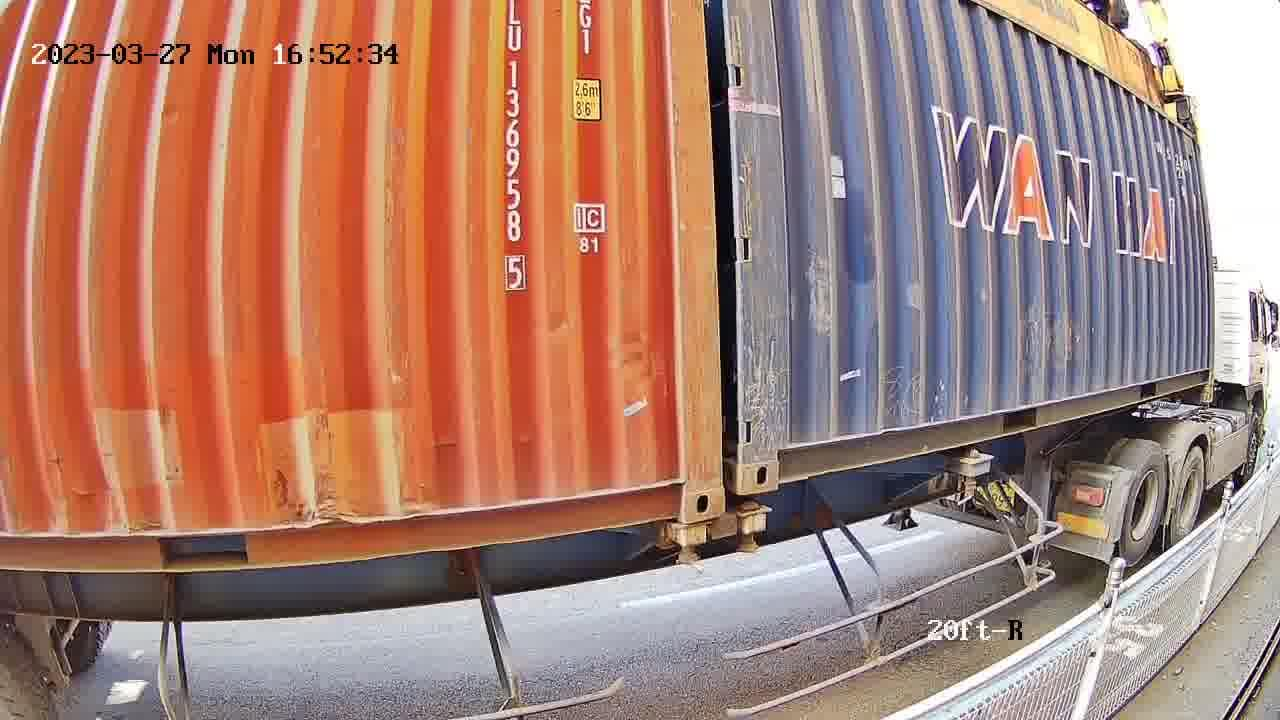Cone: (734, 502, 773, 558), (666, 523, 710, 571)
Hole_L: (740, 419, 807, 496)
Hole_R: (644, 444, 723, 523)
Tire: (1118, 445, 1168, 566), (1171, 449, 1205, 542)
